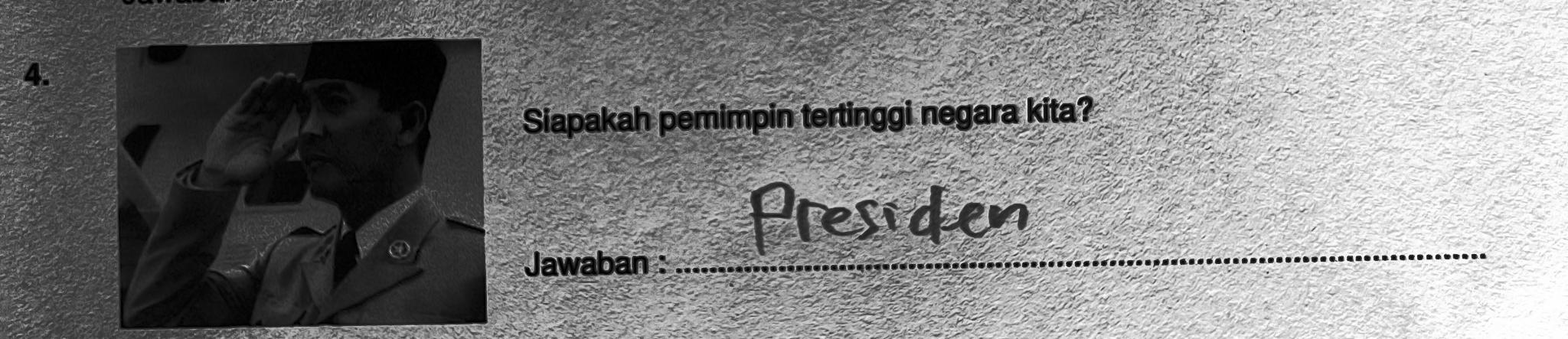jawaban: (744, 159, 1048, 267)
